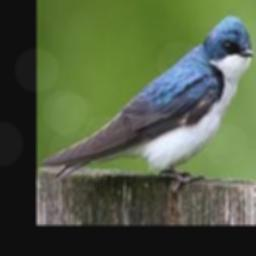Swallow: (40, 13, 254, 185)
